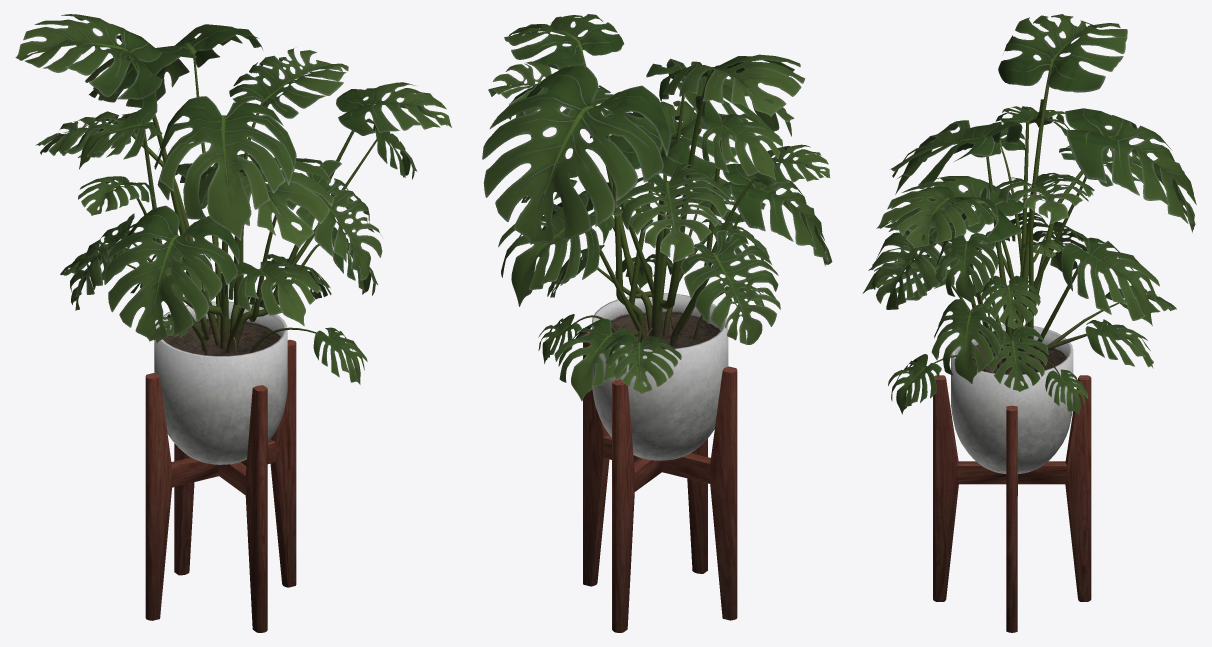
File: planta-monstera.glb
3 views of the same model, side by side, from view 1: azimuth 30°, elevation 25°; view 2: azimuth 150°, elevation 25°; view 3: azimuth 270°, elevation 25° (orthographic). The views are drawn at different scales.
Parts seen in each view (by area): view 1: Leaves, Stand, Pot_LP, root_HP_1_Mat.2_0; view 2: Leaves, Stand, Pot_LP, root_HP_1_Mat.2_0; view 3: Leaves, Stand, Pot_LP, root_HP_1_Mat.2_0.
Boxes of the visible parts, <box> form: Leaves: <box>15,14,451,384</box>; Stand: <box>145,339,296,632</box>; Pot_LP: <box>154,301,287,464</box>; root_HP_1_Mat.2_0: <box>124,53,376,355</box>; Leaves: <box>482,14,832,401</box>; Stand: <box>583,332,737,632</box>; Pot_LP: <box>592,293,728,460</box>; root_HP_1_Mat.2_0: <box>559,50,755,346</box>; Leaves: <box>862,14,1196,414</box>; Stand: <box>933,375,1091,632</box>; Pot_LP: <box>951,324,1073,473</box>; root_HP_1_Mat.2_0: <box>933,68,1124,375</box>.
Size of the model in its own units: 0.8695 by 1.36 by 0.7911.
3 materials, 3 textured.
